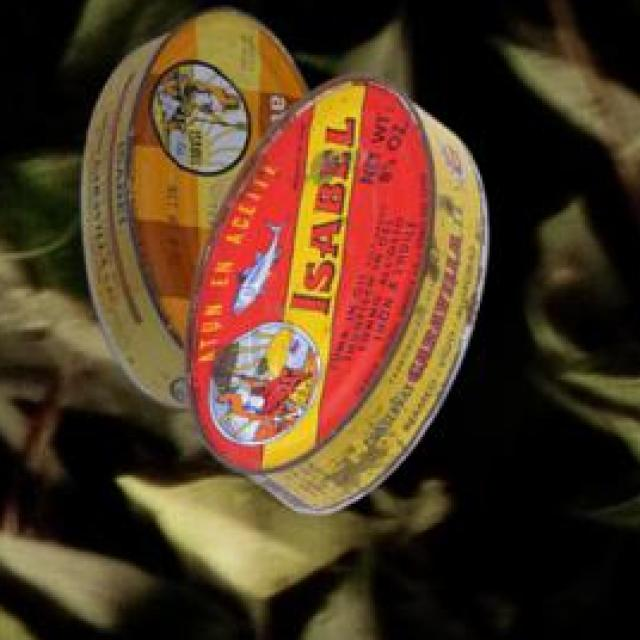logam: (190, 78, 491, 517), (85, 11, 312, 412)
